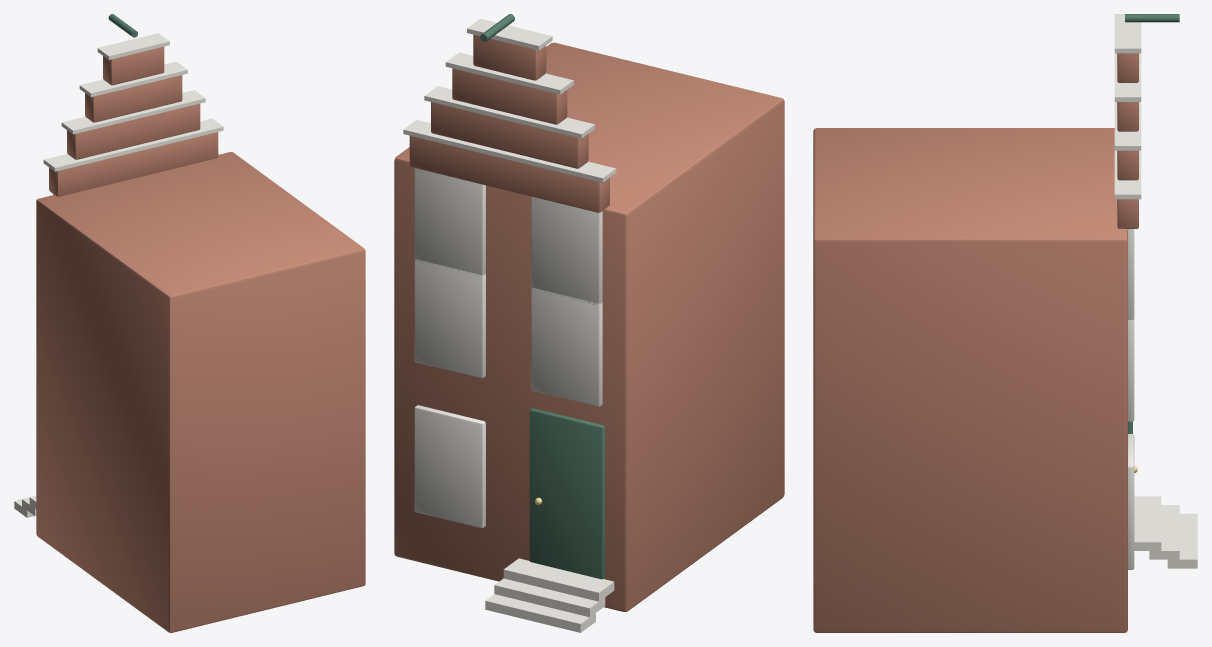
Rendered from canal-house-stepped-gable.glb.
The picture shows the model from 3 angles, left to right: view 1: azimuth 30°, elevation 25°; view 2: azimuth 150°, elevation 25°; view 3: azimuth 270°, elevation 25°; orthographic projection. The views are drawn at different scales.
Parts seen in each view (by area): view 1: house_MainBrickBody, house_GableStep_0, house_GableStep_1, house_GableStep_2, house_GableStep_3, house_CopingStone_0, house_CopingStone_1, house_CopingStone_2, house_CopingStone_3; view 2: house_MainBrickBody, house_MonumentDoor, house_WindowFrame_0, house_WindowFrame_1, house_WindowFrame_2, house_WindowFrame_3, house_WindowFrame_4, house_GableStep_0, house_GableStep_1, house_GableStep_2, house_StoneStoep_0, house_GableStep_3 (+6 smaller); view 3: house_MainBrickBody, house_StoneStoep_0, house_StoneStoep_2, house_StoneStoep_1, house_CopingStone_3, house_WindowFrame_0, house_CopingStone_0, house_CopingStone_1, house_CopingStone_2, house_WindowFrame_2, house_GableStep_1, house_GableStep_0 (+3 smaller).
Boxes of the visible parts, x1=… form: house_MainBrickBody: x1=36, y1=152, x2=365, y2=632; house_GableStep_0: x1=49, y1=132, x2=218, y2=196; house_GableStep_1: x1=67, y1=103, x2=200, y2=159; house_GableStep_2: x1=85, y1=75, x2=182, y2=122; house_GableStep_3: x1=103, y1=46, x2=164, y2=85; house_CopingStone_0: x1=43, y1=118, x2=223, y2=171; house_CopingStone_1: x1=61, y1=90, x2=205, y2=134; house_CopingStone_2: x1=79, y1=61, x2=187, y2=97; house_CopingStone_3: x1=97, y1=33, x2=169, y2=59; house_MainBrickBody: x1=394, y1=42, x2=784, y2=611; house_MonumentDoor: x1=529, y1=408, x2=605, y2=579; house_WindowFrame_0: x1=414, y1=405, x2=485, y2=528; house_WindowFrame_1: x1=531, y1=287, x2=602, y2=406; house_WindowFrame_2: x1=414, y1=259, x2=485, y2=378; house_WindowFrame_3: x1=531, y1=196, x2=602, y2=305; house_WindowFrame_4: x1=414, y1=168, x2=485, y2=276; house_GableStep_0: x1=409, y1=136, x2=609, y2=212; house_GableStep_1: x1=431, y1=102, x2=588, y2=168; house_GableStep_2: x1=452, y1=68, x2=567, y2=124; house_StoneStoep_0: x1=503, y1=558, x2=614, y2=601; house_GableStep_3: x1=473, y1=34, x2=546, y2=80; house_MainBrickBody: x1=813, y1=128, x2=1127, y2=632; house_StoneStoep_0: x1=1134, y1=496, x2=1161, y2=550; house_StoneStoep_2: x1=1167, y1=513, x2=1197, y2=568; house_StoneStoep_1: x1=1149, y1=505, x2=1179, y2=559; house_CopingStone_3: x1=1114, y1=14, x2=1141, y2=53; house_WindowFrame_0: x1=1128, y1=434, x2=1134, y2=569; house_CopingStone_0: x1=1114, y1=150, x2=1141, y2=199; house_CopingStone_1: x1=1114, y1=102, x2=1141, y2=150; house_CopingStone_2: x1=1114, y1=53, x2=1141, y2=101; house_WindowFrame_2: x1=1128, y1=319, x2=1134, y2=421; house_GableStep_1: x1=1117, y1=150, x2=1138, y2=180; house_GableStep_0: x1=1117, y1=199, x2=1138, y2=228.
Bounding box in the file's own units: 2.2 × 5.13 × 3.17.
